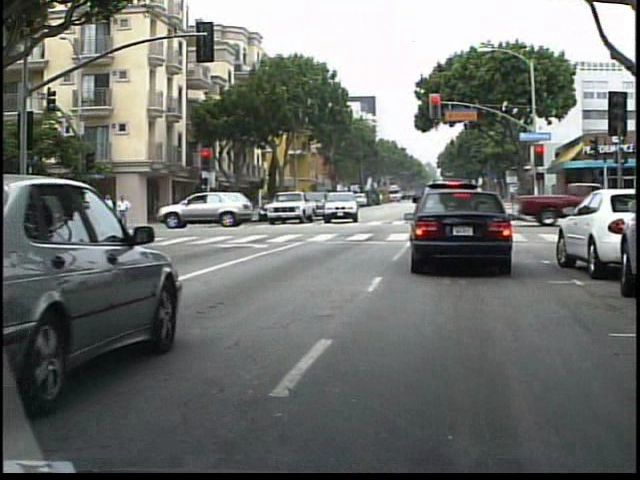person: (112, 192, 128, 233), (97, 191, 112, 212)
